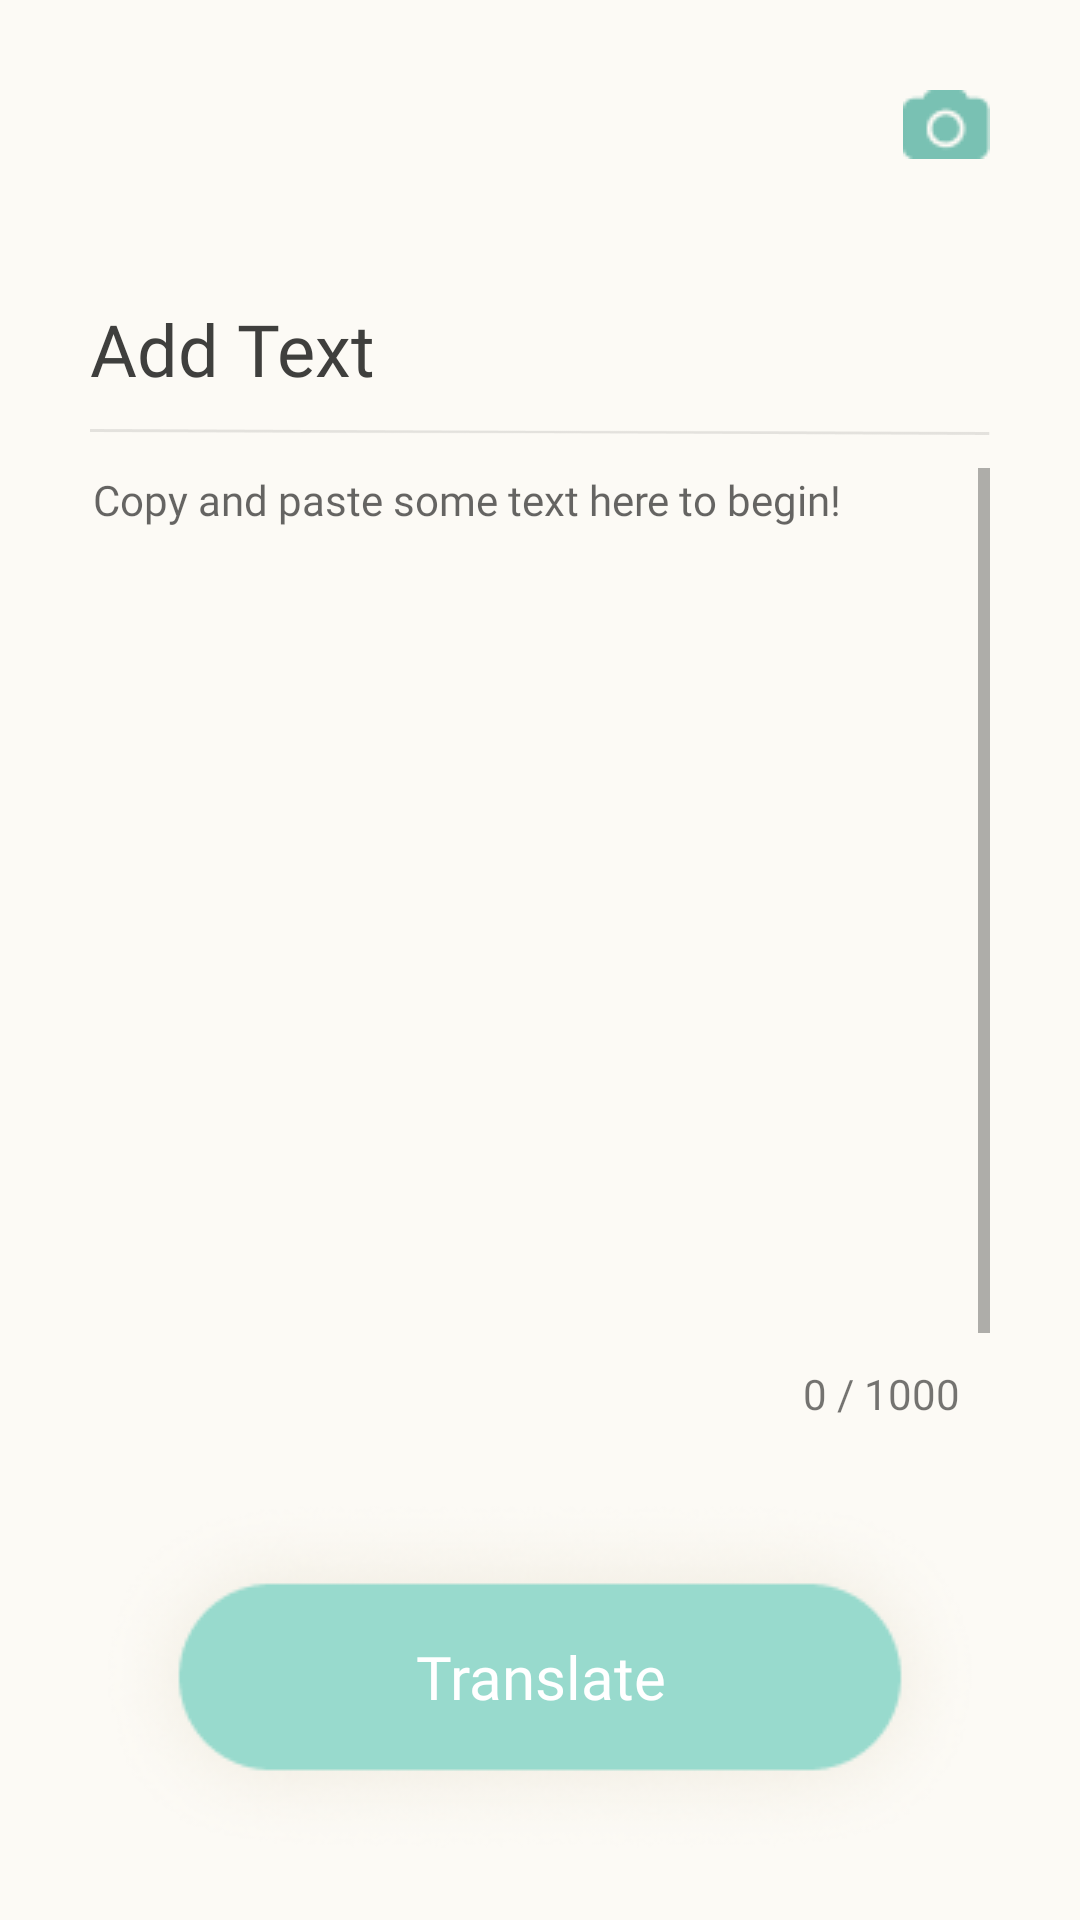

Icons on this 1080×1920 Android screen, each with the point to tap as (x,y):
switch cam mode: (946,124)
